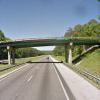Bridge: (6, 29, 96, 62)
